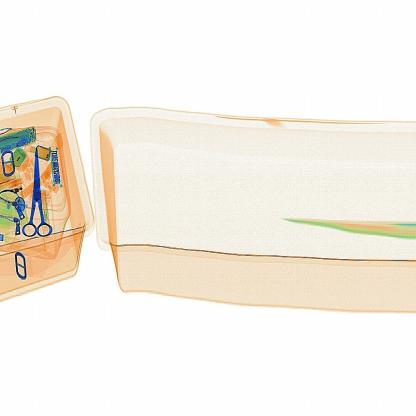gun: (15, 140, 54, 242)
